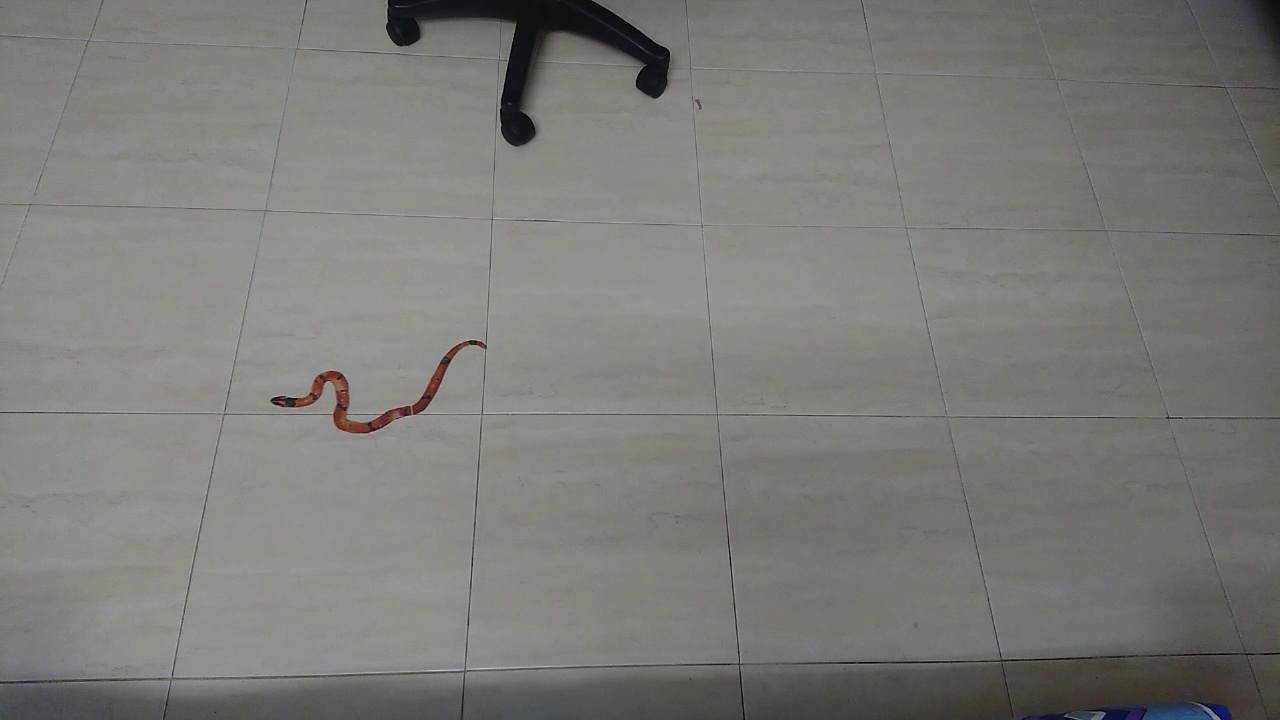snake: (248, 324, 513, 450)
